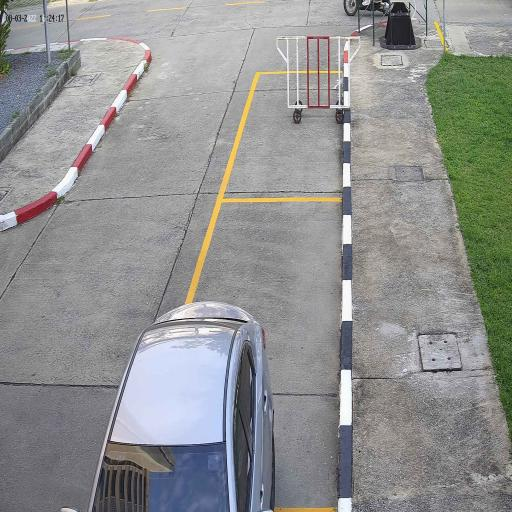car: (87, 300, 276, 512)
